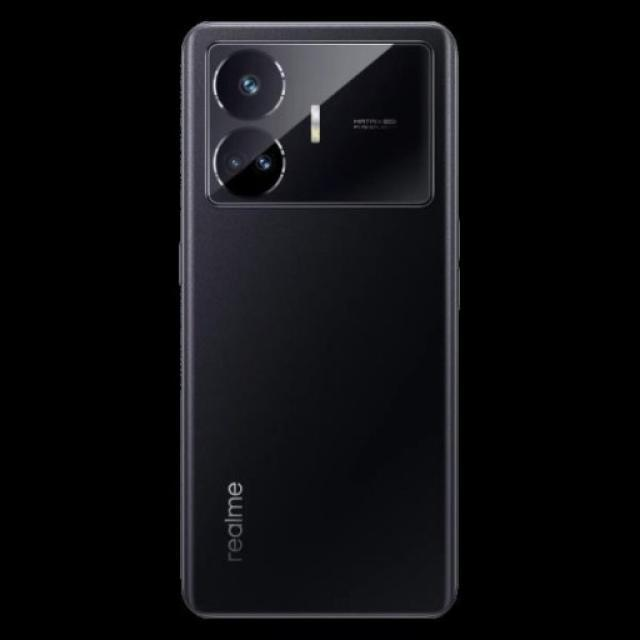phone: (179, 21, 454, 618)
